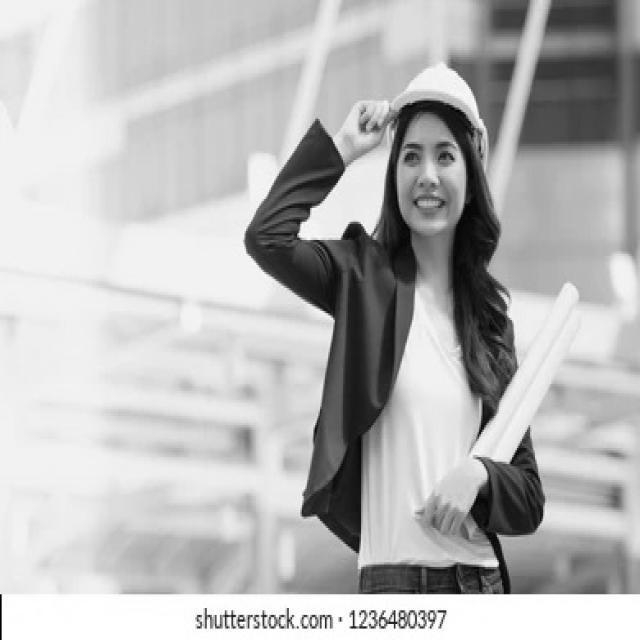safety_helmet: (388, 58, 491, 171)
